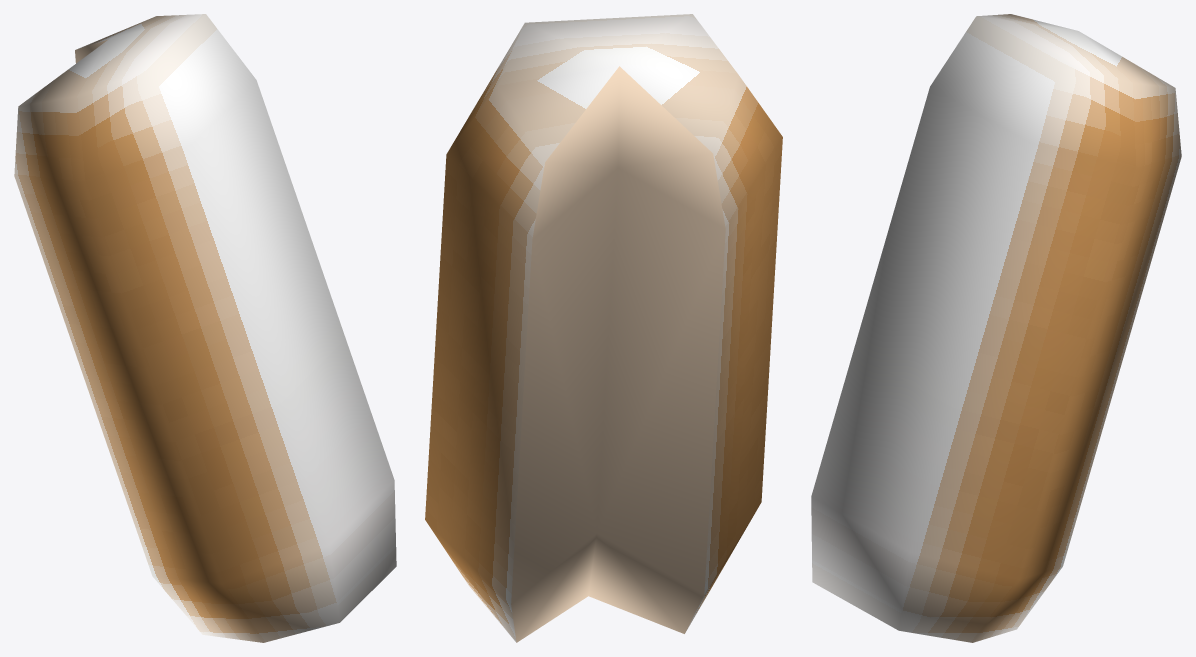
The model's file is H_HotdogBun.fbx.
The picture shows the model from 3 angles, left to right: view 1: azimuth 30°, elevation 25°; view 2: azimuth 150°, elevation 25°; view 3: azimuth 270°, elevation 25°; orthographic projection. The views are drawn at different scales.
Visible parts, largest first — view 1: HotDog; view 2: HotDog; view 3: HotDog.
Part boxes in pixels (x1,y1,x2,y2): HotDog: (14, 14, 396, 642); HotDog: (425, 14, 782, 642); HotDog: (811, 14, 1181, 642).
Bounding box in the file's own units: 18.42 × 33.26 × 20.3.
